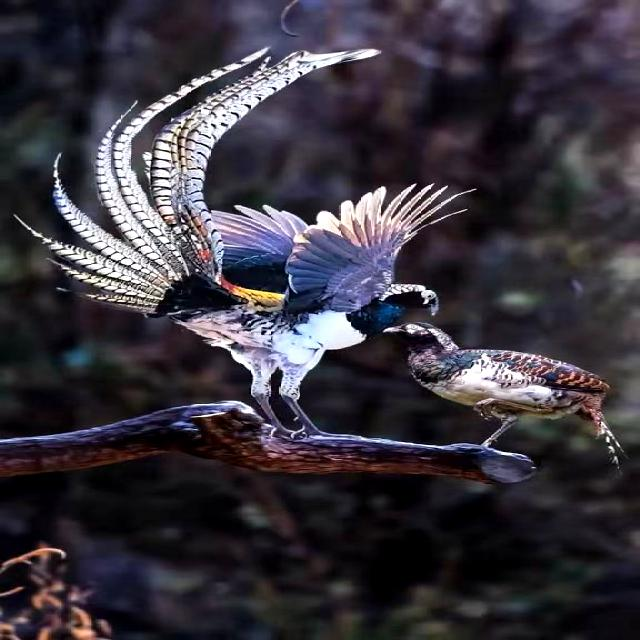Chrysolophus amherstiae: (21, 48, 378, 313)
